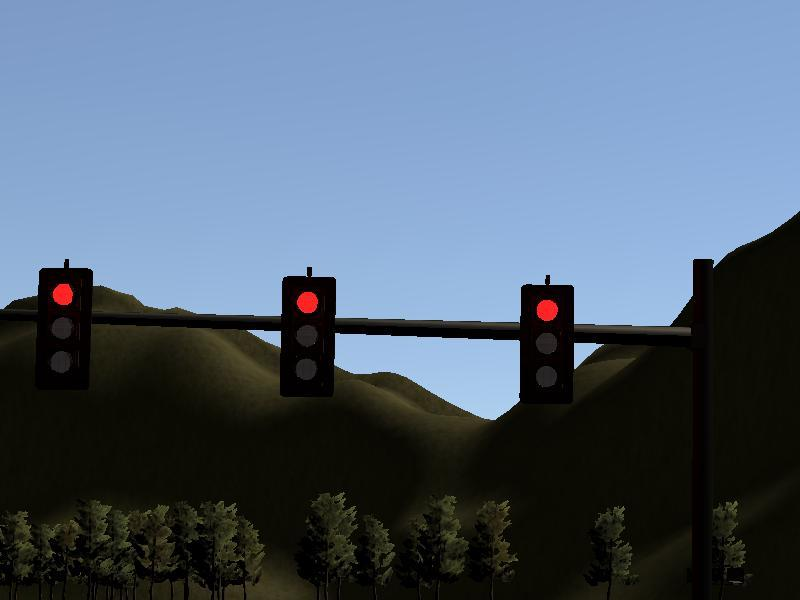Red: (40, 269, 88, 393), (520, 285, 570, 402), (284, 278, 330, 395)
